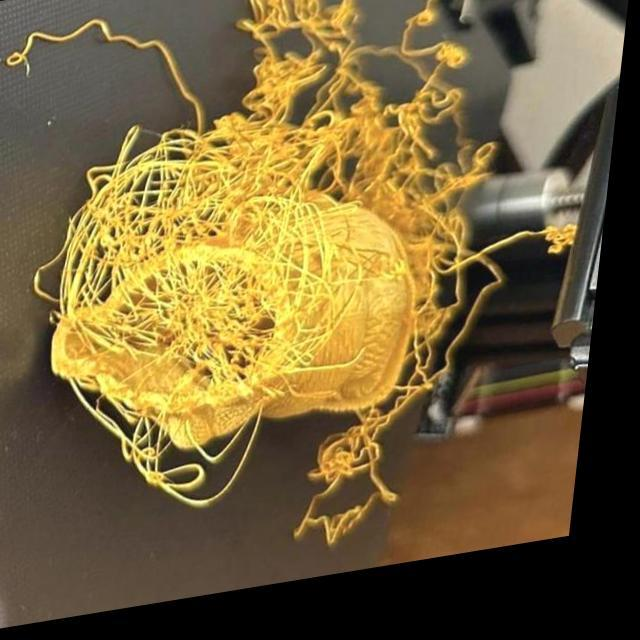spaghetti: (101, 141, 272, 307), (237, 1, 373, 121), (397, 113, 501, 265), (270, 107, 386, 235), (152, 269, 291, 374), (128, 392, 231, 504), (308, 441, 407, 555), (361, 31, 471, 94), (408, 302, 464, 410)
